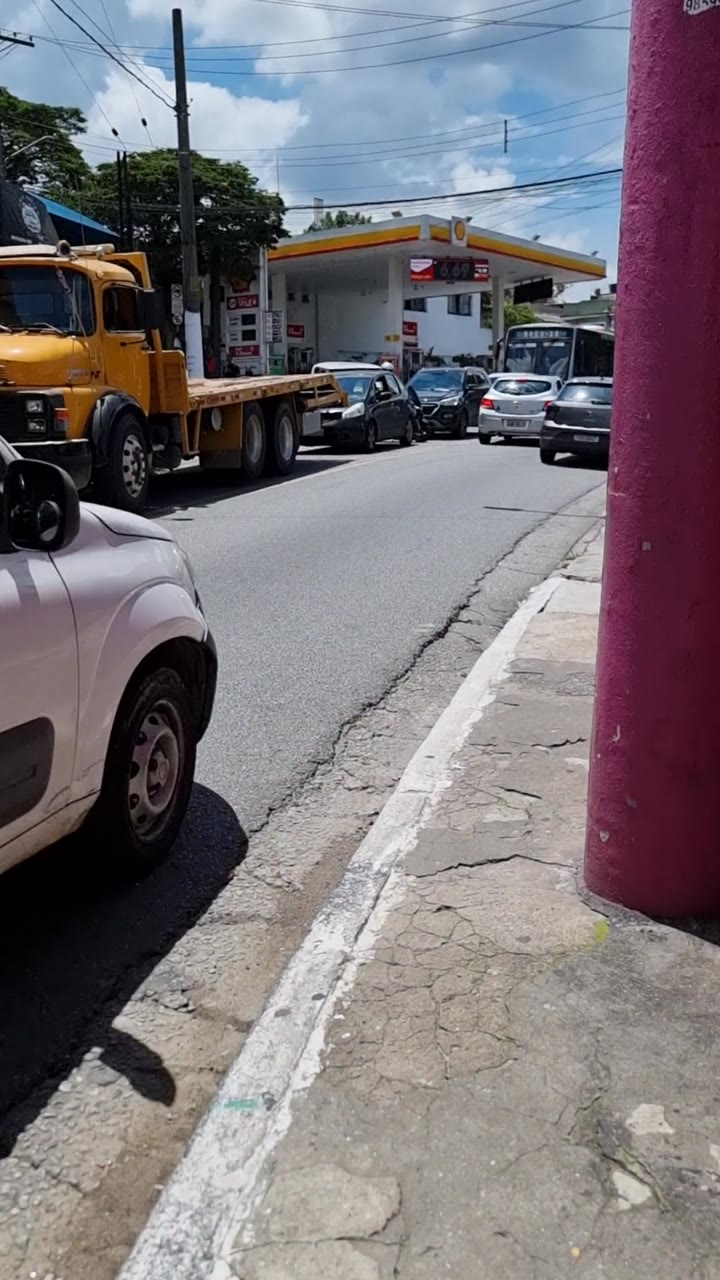obstaculo: (590, 0, 720, 922)
